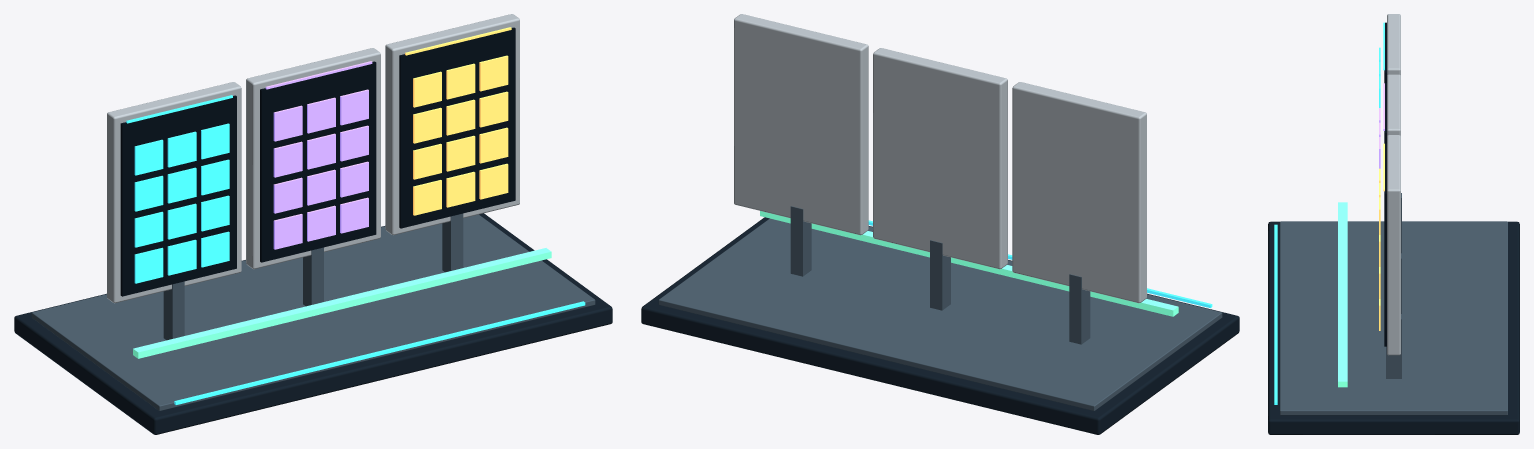
Rendered from qkv-projector.glb.
3 views of the same model, side by side, from view 1: azimuth 30°, elevation 25°; view 2: azimuth 150°, elevation 25°; view 3: azimuth 270°, elevation 25° (orthographic). The views are drawn at different scales.
Visible parts, largest first — view 1: inlay, display (×3), frame (×3), base, projection_bus, cell_r0_c1 (×3), cell_r1_c0 (×3), cell_r0_c0 (×3), cell_r1_c1 (×3), cell_r2_c0 (×3), cell_r2_c1 (×3), cell_r3_c0 (×3) (+9 smaller); view 2: frame (×3), inlay, base, projection_bus, support_V, support_Q, support_K; view 3: inlay, base, frame (×3), projection_bus, status_strip, display, support_V.
Boxes of the visible parts, box(x1,y1,x2,y2) form: inlay: box(31, 214, 595, 410); display (×3): box(120, 27, 515, 296); frame (×3): box(107, 14, 519, 303); base: box(14, 213, 612, 434); projection_bus: box(133, 248, 551, 358); cell_r0_c1 (×3): box(167, 63, 475, 167); cell_r1_c0 (×3): box(134, 107, 441, 211); cell_r0_c0 (×3): box(134, 71, 441, 175); cell_r1_c1 (×3): box(167, 99, 475, 203); cell_r2_c0 (×3): box(134, 143, 441, 247); cell_r2_c1 (×3): box(167, 135, 475, 239); cell_r3_c0 (×3): box(134, 180, 441, 283); frame (×3): box(734, 14, 1146, 303); inlay: box(658, 218, 1222, 410); base: box(641, 217, 1239, 434); projection_bus: box(760, 211, 1178, 316); support_V: box(790, 206, 811, 276); support_Q: box(1069, 274, 1090, 344); support_K: box(930, 240, 950, 310); inlay: box(1280, 221, 1507, 415); base: box(1268, 221, 1519, 434); frame (×3): box(1387, 14, 1400, 355); projection_bus: box(1338, 202, 1347, 387); status_strip: box(1274, 224, 1277, 404); display: box(1384, 143, 1386, 346); support_V: box(1386, 314, 1401, 378).
Size of the model in its own units: 6 by 3.29 by 3.2.
